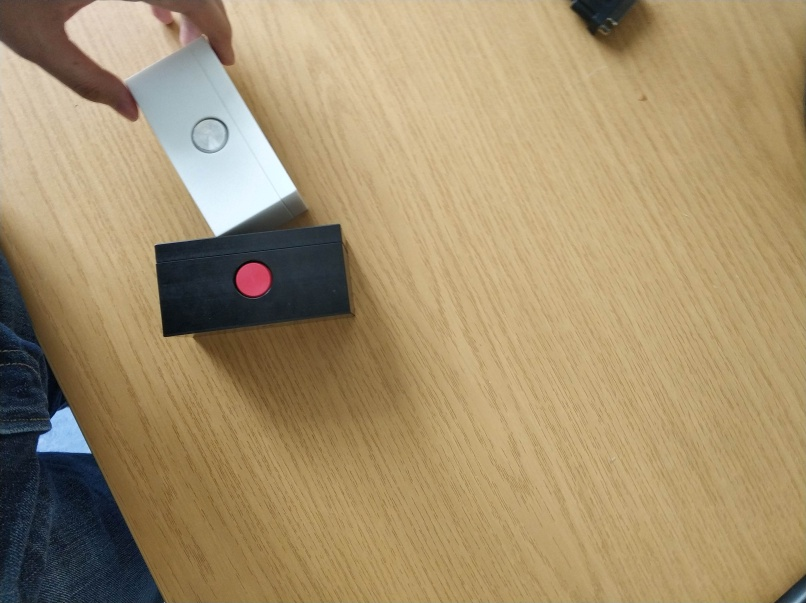black+black+red: (151, 219, 357, 343)
white+white+silver: (115, 36, 308, 240)
